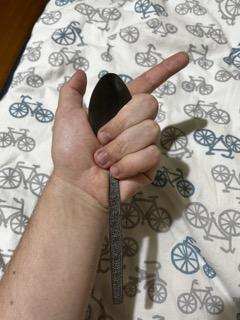spoon: (88, 71, 134, 308)
